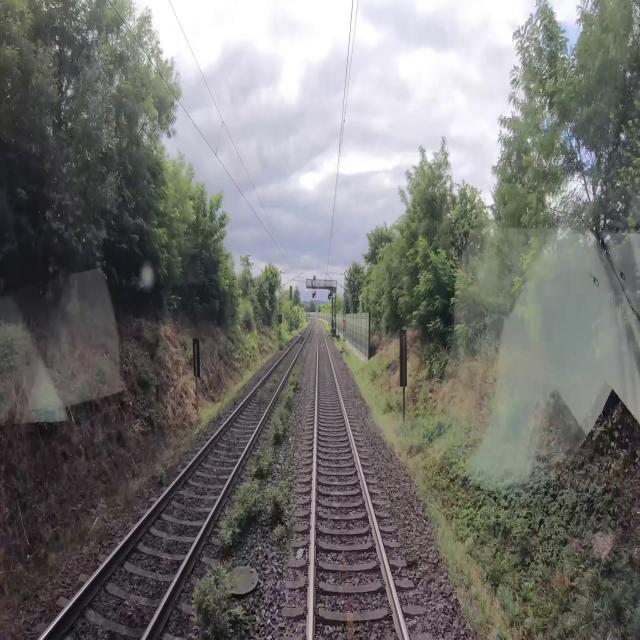Plant: (218, 369, 298, 553), (192, 561, 250, 639), (402, 549, 419, 571)
